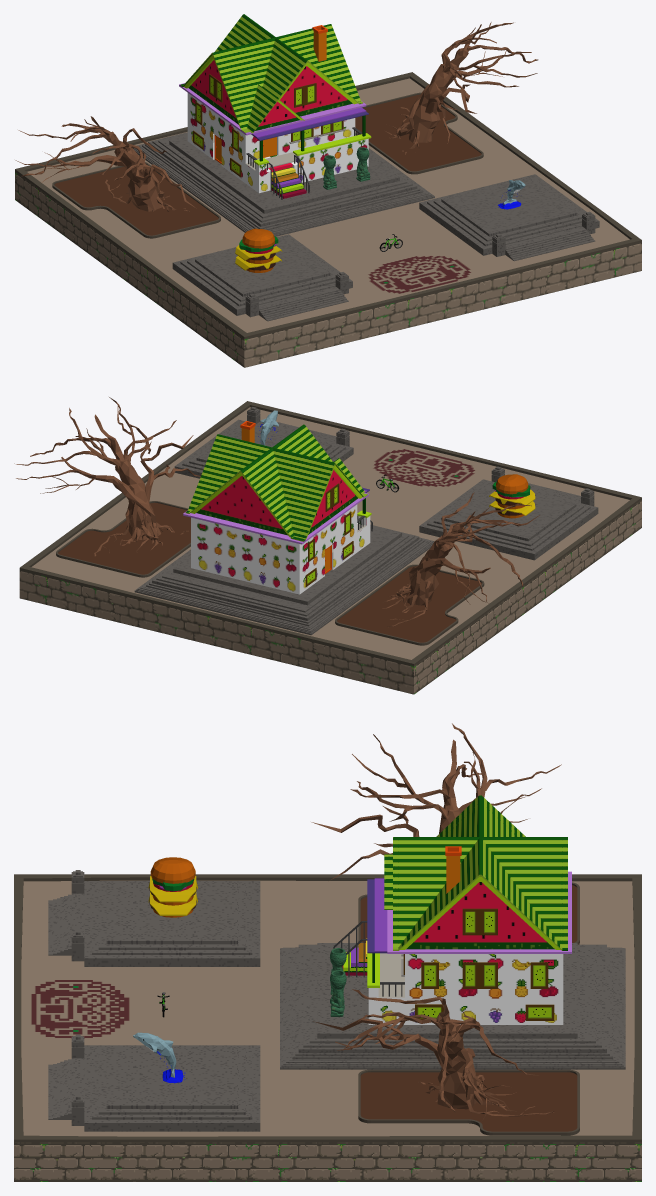
3 views of the same model, one above another, from view 1: azimuth 30°, elevation 25°; view 2: azimuth 150°, elevation 25°; view 3: azimuth 270°, elevation 25° (orthographic). The views are drawn at different scales.
Visible parts, largest first — view 1: Cube.011, Cube.1063, OBJRANDOM_HAMBURGER; view 2: Cube.011, Cube.1063, OBJRANDOM_HAMBURGER; view 3: Cube.011, Cube.1063, OBJRANDOM_HAMBURGER, ANIMAL_DELFIN.
Boxes of the visible parts, left/top/right/bottom form: Cube.011: left=15, top=22, right=641, bottom=367; Cube.1063: left=179, top=14, right=371, bottom=199; OBJRANDOM_HAMBURGER: left=235, top=228, right=282, bottom=272; Cube.011: left=14, top=397, right=641, bottom=694; Cube.1063: left=183, top=421, right=372, bottom=594; OBJRANDOM_HAMBURGER: left=489, top=474, right=535, bottom=518; Cube.011: left=14, top=723, right=641, bottom=1181; Cube.1063: left=333, top=795, right=571, bottom=1024; OBJRANDOM_HAMBURGER: left=148, top=857, right=197, bottom=917; ANIMAL_DELFIN: left=133, top=1032, right=185, bottom=1083.
Bounding box in the file's own units: 5099 × 1663 × 4000.
Materials: 33 (7 with a texture image).
